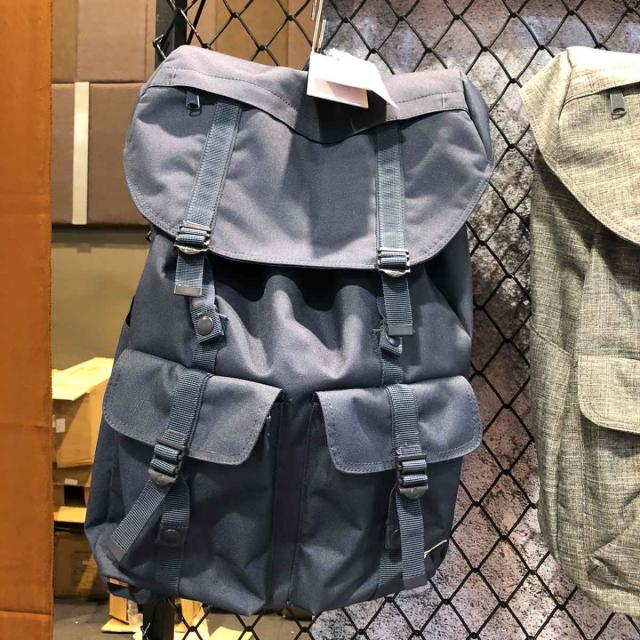handbag: (73, 39, 501, 613)
